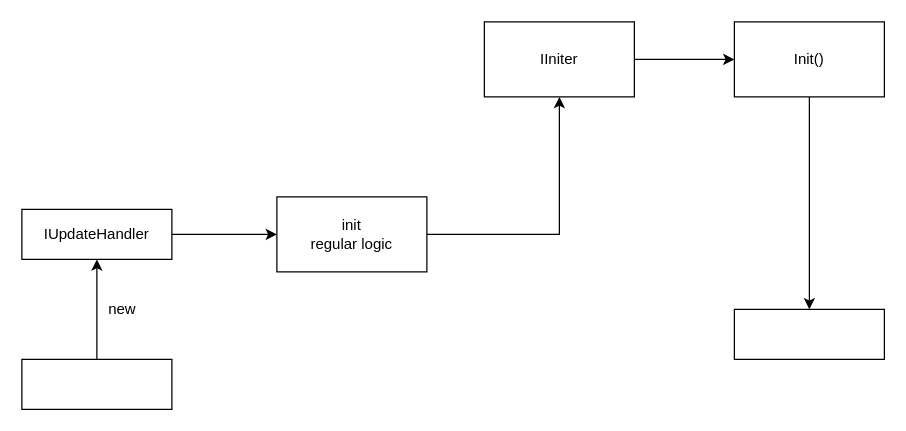
Image size: 906x431. Some labels were removed from this diagram. The shapes that lost their labels are listed below. From the top down, each one's centre as x and y in pixels, then its label:
At [808,333]: "IConfig".
At [96,383]: "Main".
